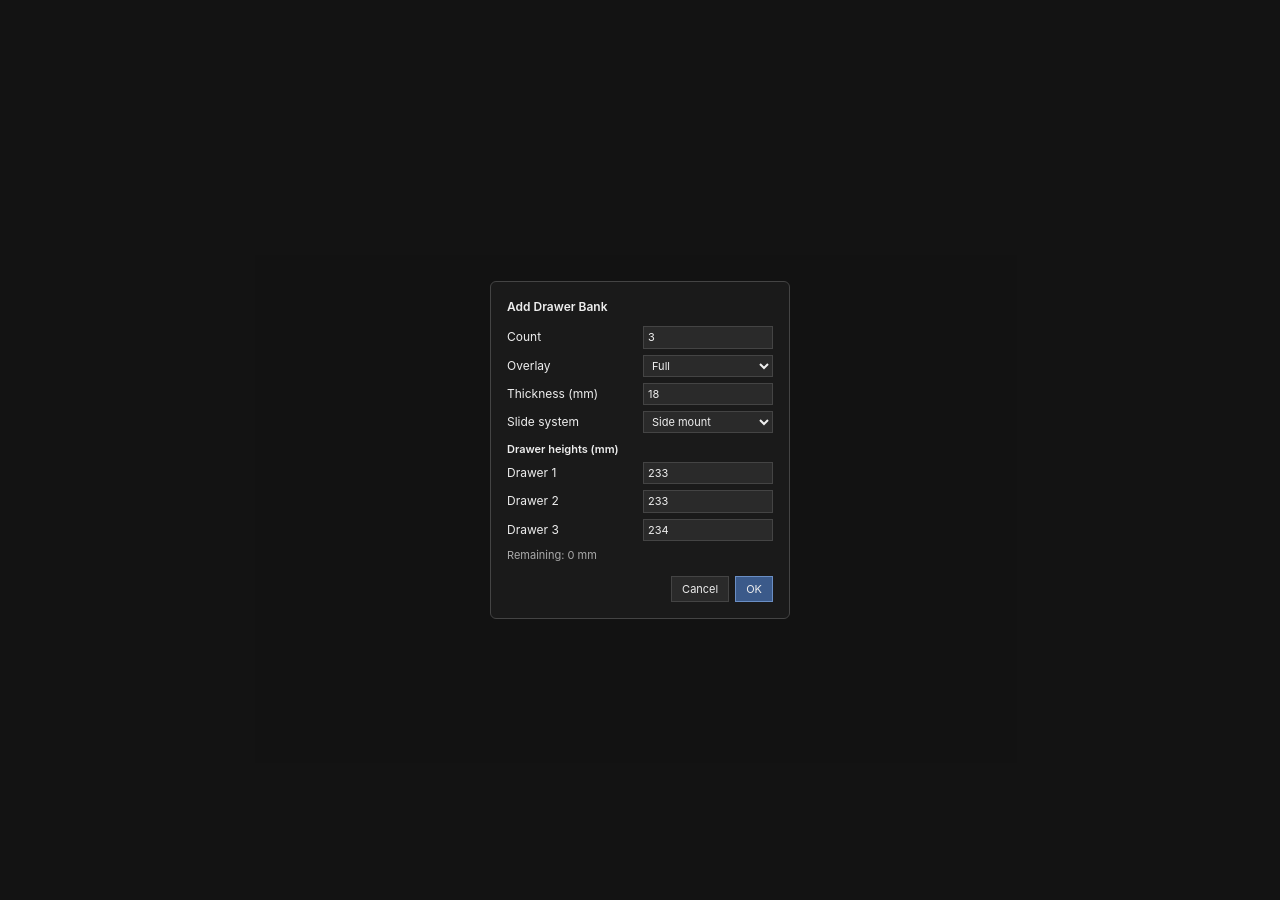
Test: DrawerBankDialog — structural › invalid count (1) blocks commit and shows error
Replace the text in the number field labelled "Count" with "1" at {"x": 708, "y": 337}, box x1=643 y1=326 x2=773 y2=348
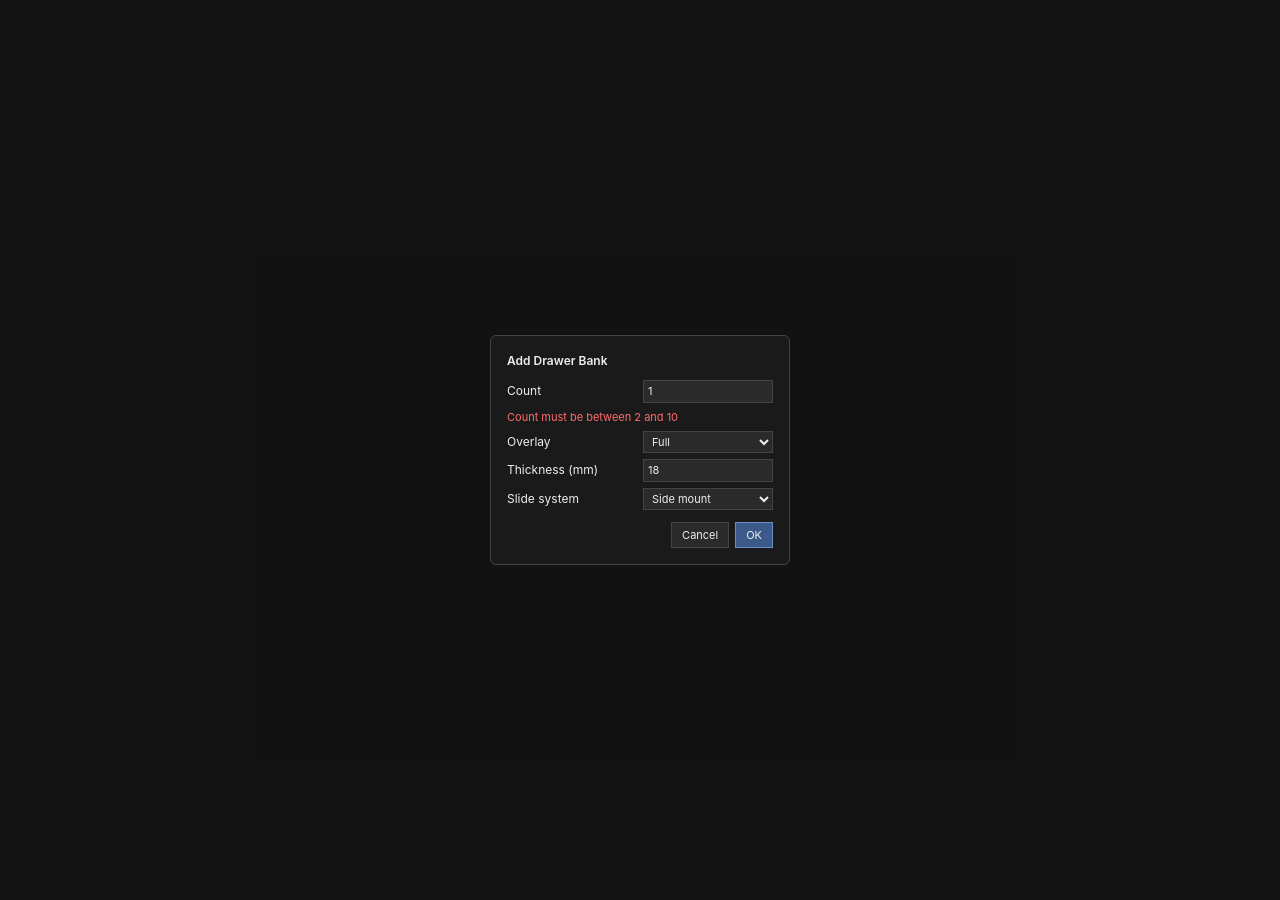
expect the button "OK" is disabled: met, box x1=735 y1=522 x2=773 y2=548
